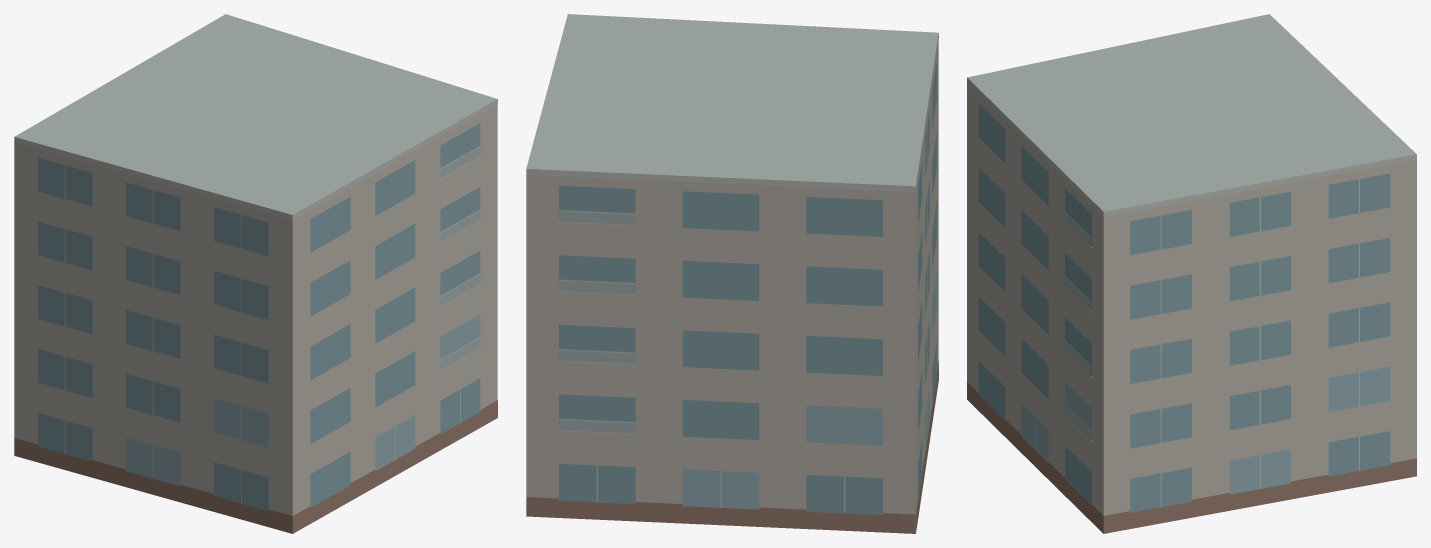
The model's file is survey-upis-32963355.glb.
The picture shows the model from 3 angles, left to right: view 1: azimuth 30°, elevation 25°; view 2: azimuth 150°, elevation 25°; view 3: azimuth 270°, elevation 25°; orthographic projection. The views are drawn at different scales.
Parts seen in each view (by area): view 1: survey-upis-32963355.tmp; view 2: survey-upis-32963355.tmp; view 3: survey-upis-32963355.tmp.
Part boxes in pixels (x1,y1,x2,y2): survey-upis-32963355.tmp: (14,14,497,533); survey-upis-32963355.tmp: (526,14,938,533); survey-upis-32963355.tmp: (967,14,1416,533).
Size of the model in its own units: 19.11 by 14.5 by 18.36.
